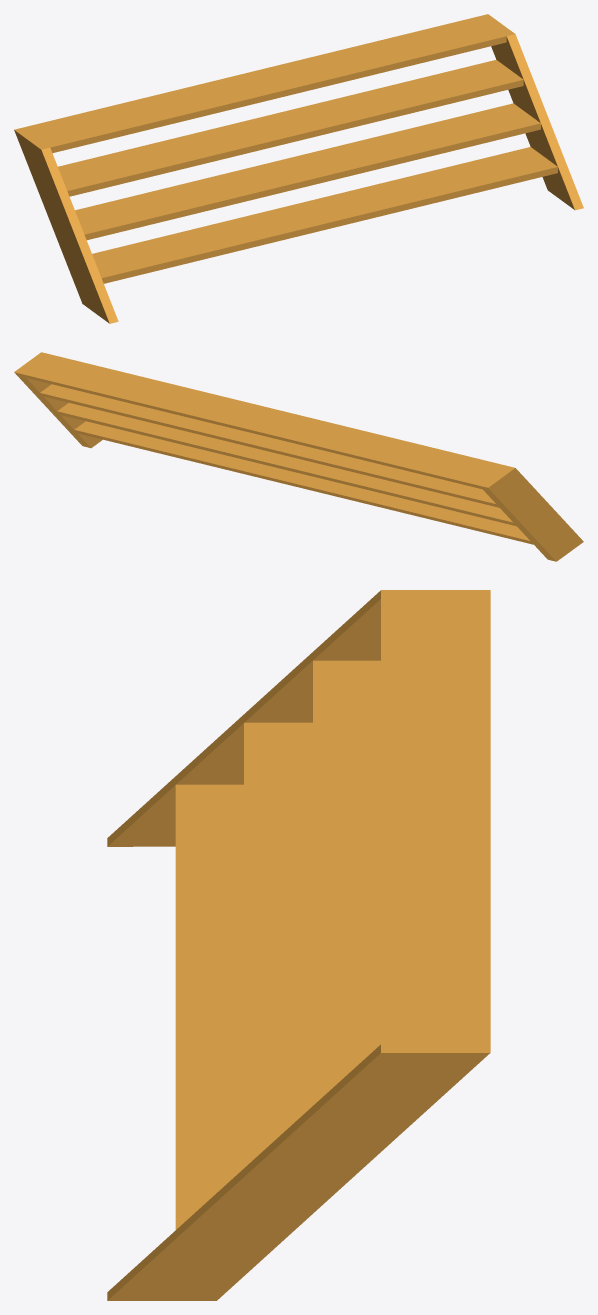
The model's file is scifi-scifi-stairs.glb.
3 renders of one model, top to bottom at view 1: azimuth 30°, elevation 25°; view 2: azimuth 150°, elevation 25°; view 3: azimuth 270°, elevation 25°, orthographic. The views are drawn at different scales.
Parts seen in each view (by area): view 1: scifi-stairs; view 2: scifi-stairs; view 3: scifi-stairs.
Part boxes in pixels (bbox=[...]): scifi-stairs: bbox=[14, 14, 583, 323]; scifi-stairs: bbox=[14, 352, 583, 561]; scifi-stairs: bbox=[107, 590, 490, 1300].
Bounding box in the file's own units: 4 × 1 × 1.4.
